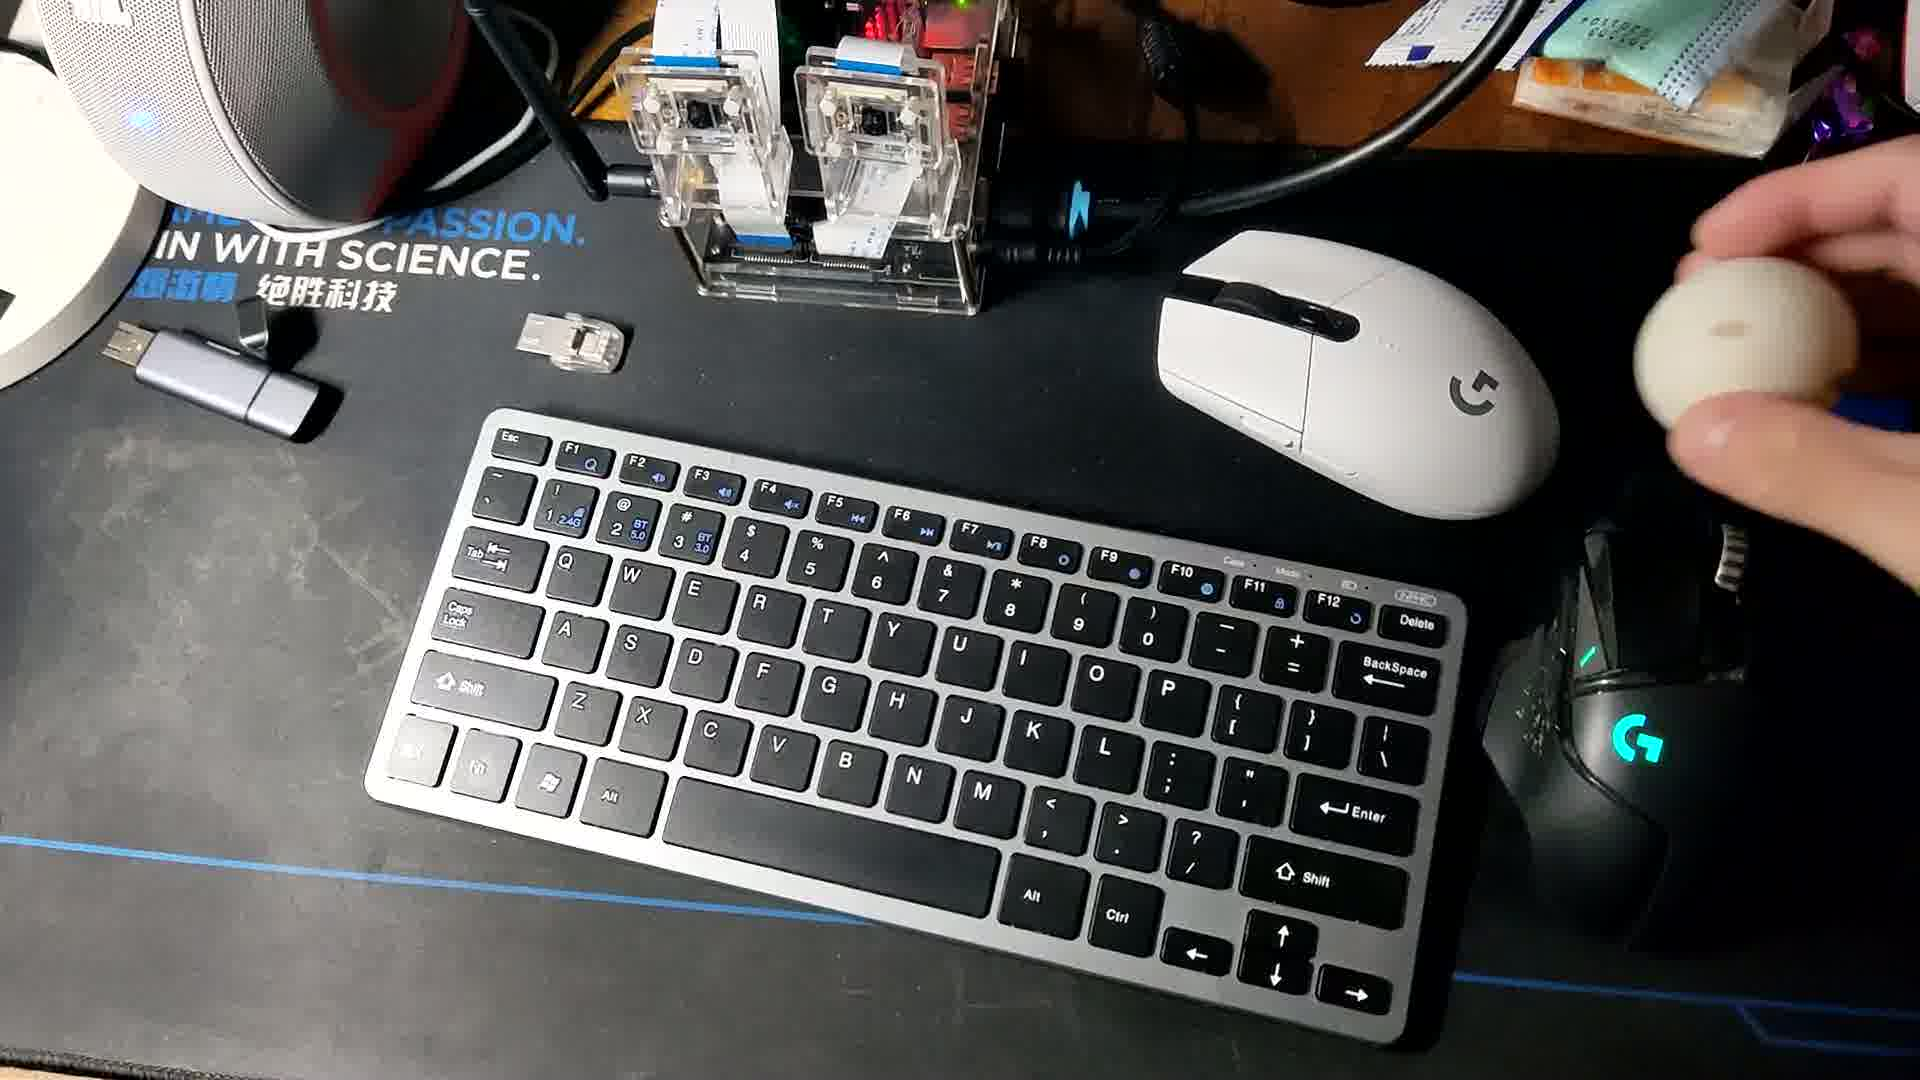Ball: (1630, 253, 1858, 456)
